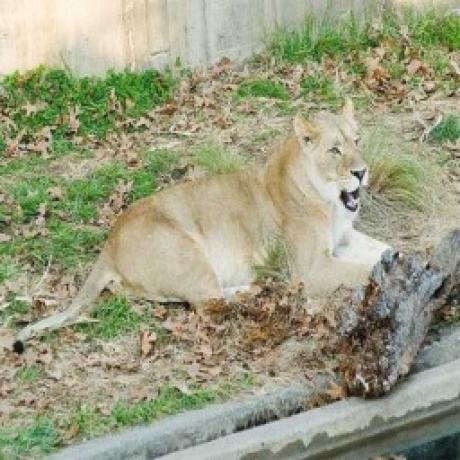Lion: (12, 97, 398, 355)
